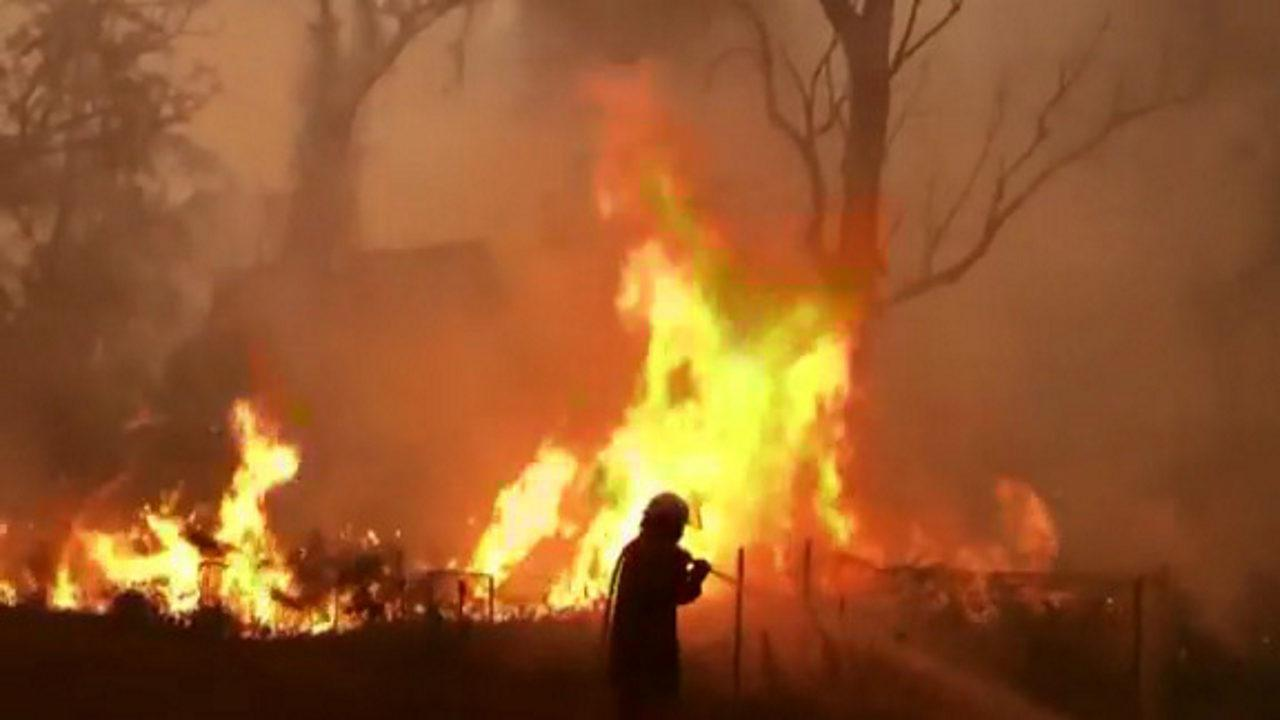Fire: (458, 55, 893, 625), (47, 398, 345, 638), (901, 464, 1063, 576)
